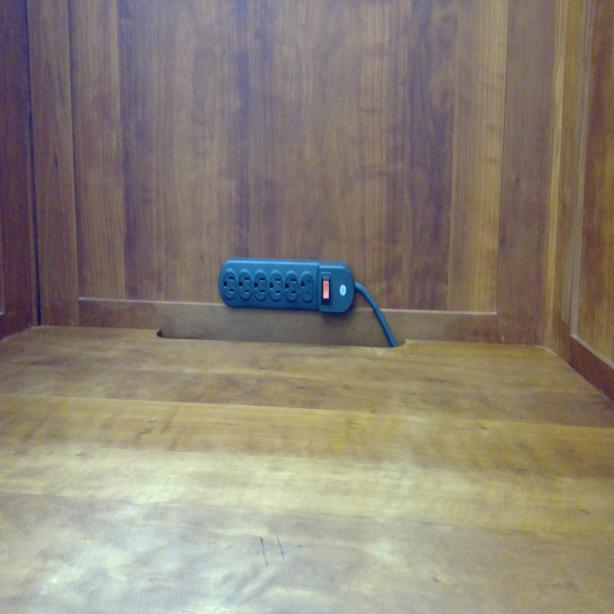typeb: (251, 271, 268, 302), (222, 268, 238, 296), (284, 269, 298, 300), (237, 271, 253, 297), (269, 271, 284, 298), (300, 274, 314, 300)
